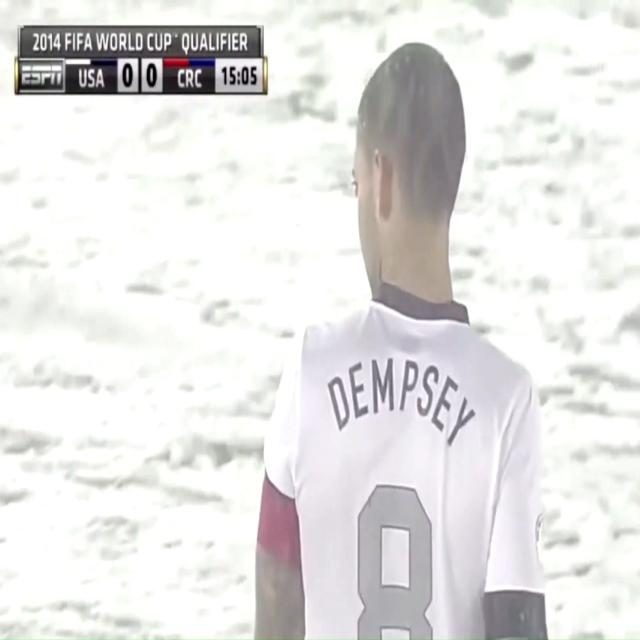player: (221, 1, 604, 640)
